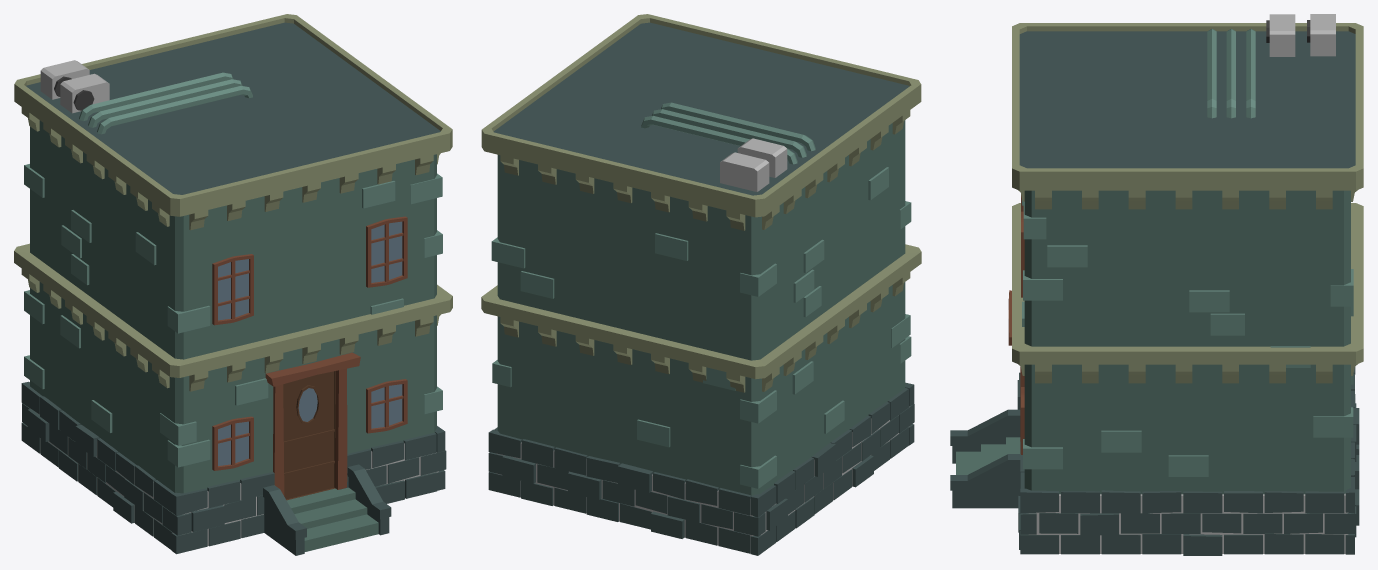
The model's file is 2Story_Stairs_Mat.glb.
The picture shows the model from 3 angles, left to right: view 1: azimuth 30°, elevation 25°; view 2: azimuth 150°, elevation 25°; view 3: azimuth 270°, elevation 25°; orthographic projection. The views are drawn at different scales.
Parts seen in each view (by area): view 1: 2Story_Stairs_Mat; view 2: 2Story_Stairs_Mat; view 3: 2Story_Stairs_Mat.
Boxes of the visible parts, left/top/right/bottom form: 2Story_Stairs_Mat: left=14, top=14, right=452, bottom=555; 2Story_Stairs_Mat: left=481, top=14, right=921, bottom=555; 2Story_Stairs_Mat: left=950, top=14, right=1363, bottom=555.
Bounding box in the file's own units: 2.16 × 2.75 × 2.53.
